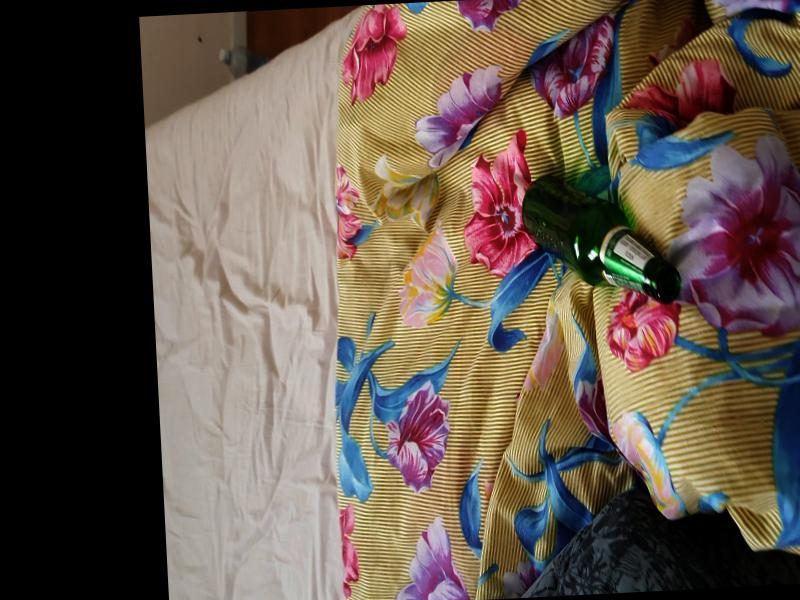Beer: (521, 168, 683, 307)
